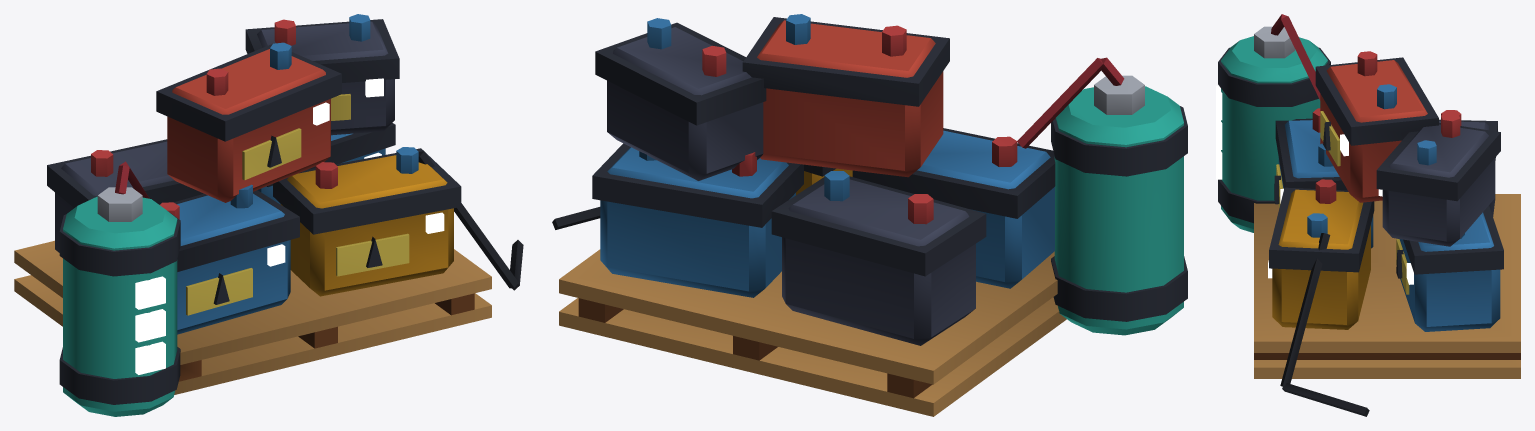
Rendered from n_battery.glb.
3 renders of one model, left to right at view 1: azimuth 30°, elevation 25°; view 2: azimuth 150°, elevation 25°; view 3: azimuth 270°, elevation 25°, orthographic. The views are drawn at different scales.
Visible parts, largest first — view 1: body, lamp_glow; view 2: body; view 3: body, lamp_glow.
Boxes of the visible parts, bbox=[...] form: body: bbox=[14, 14, 523, 416]; lamp_glow: bbox=[135, 78, 444, 374]; body: bbox=[552, 14, 1187, 416]; body: bbox=[1218, 14, 1520, 416]; lamp_glow: bbox=[1216, 85, 1413, 284].
Size of the model in its own units: 2.58 by 1.23 by 1.48.
